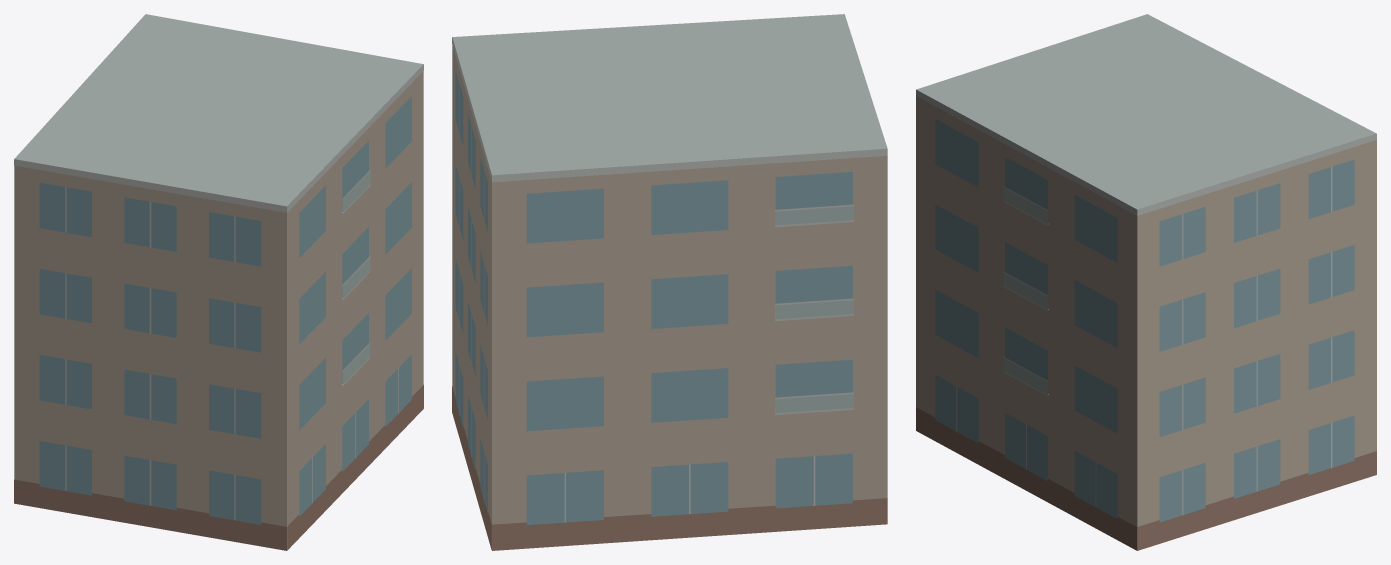
File: survey-upis-32746245.glb
3 renders of one model, left to right at view 1: azimuth 30°, elevation 25°; view 2: azimuth 150°, elevation 25°; view 3: azimuth 270°, elevation 25°, orthographic. The views are drawn at different scales.
Visible parts, largest first — view 1: survey-upis-32746245.tmp; view 2: survey-upis-32746245.tmp; view 3: survey-upis-32746245.tmp.
Boxes of the visible parts, x1,y1,x2,y2 form: survey-upis-32746245.tmp: (14, 14, 423, 550); survey-upis-32746245.tmp: (452, 14, 887, 550); survey-upis-32746245.tmp: (916, 14, 1376, 550).
Size of the model in its own units: 15.98 by 13 by 15.91.
